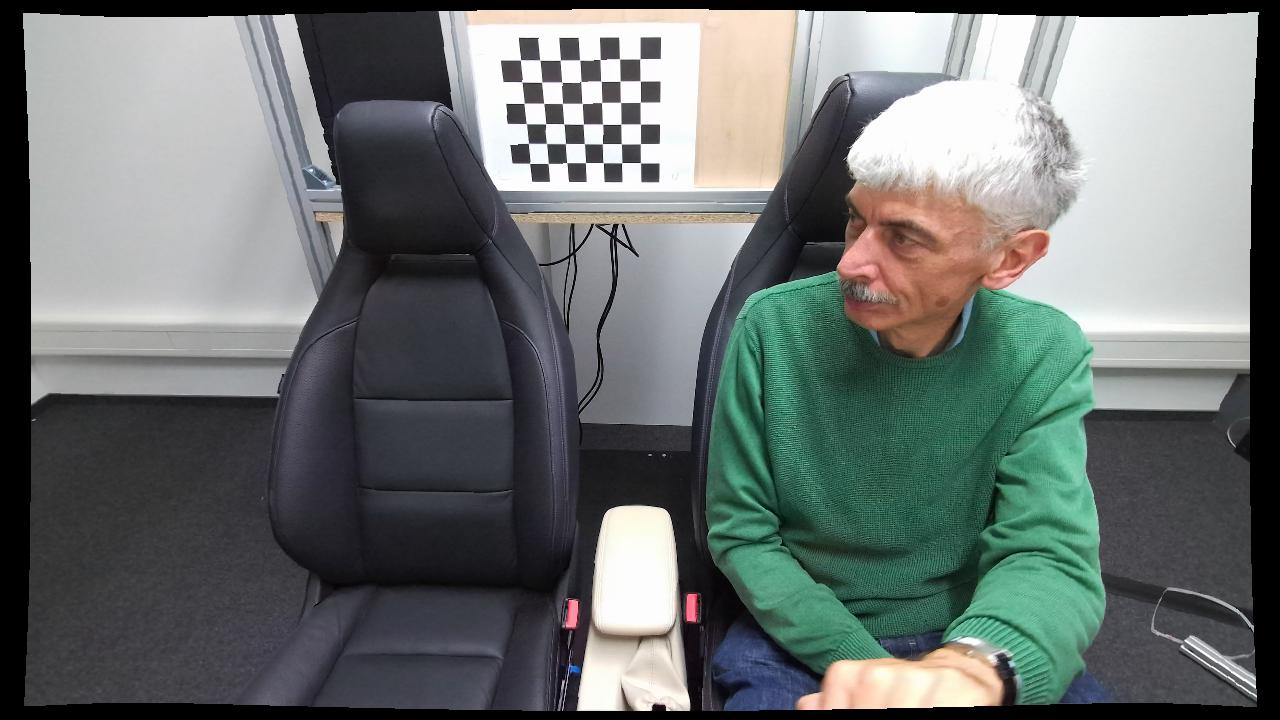Distracted: (704, 71, 1111, 713)
